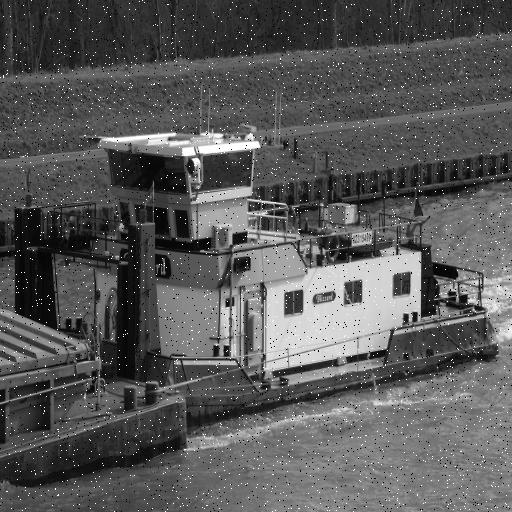tugboat: (11, 128, 504, 432)
